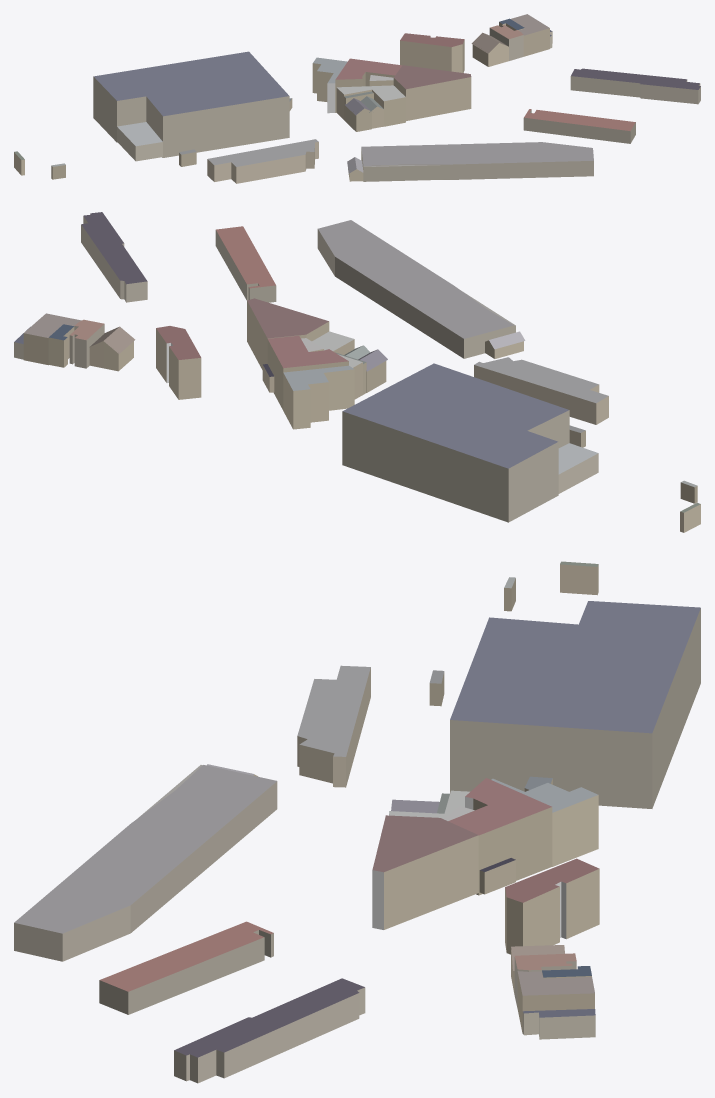
3 views of the same model, one above another, from view 1: azimuth 30°, elevation 25°; view 2: azimuth 150°, elevation 25°; view 3: azimuth 270°, elevation 25° (orthographic). The views are drawn at different scales.
Visible parts, largest first — view 1: tuile; view 2: tuile; view 3: tuile.
Boxes of the visible parts, x1=… form: tuile: x1=14, y1=14, x2=700, y2=183; tuile: x1=14, y1=212, x2=700, y2=532; tuile: x1=14, y1=561, x2=700, y2=1083.
Size of the model in its own units: 244 by 17.78 by 138.
